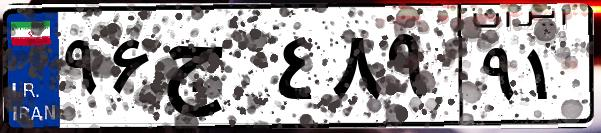1: (525, 38, 570, 115)
4: (270, 28, 330, 110)
6: (110, 28, 158, 98)
8: (330, 28, 385, 110)
9: (385, 28, 445, 110), (57, 26, 110, 100), (475, 38, 525, 113)
ج: (158, 20, 270, 120)
